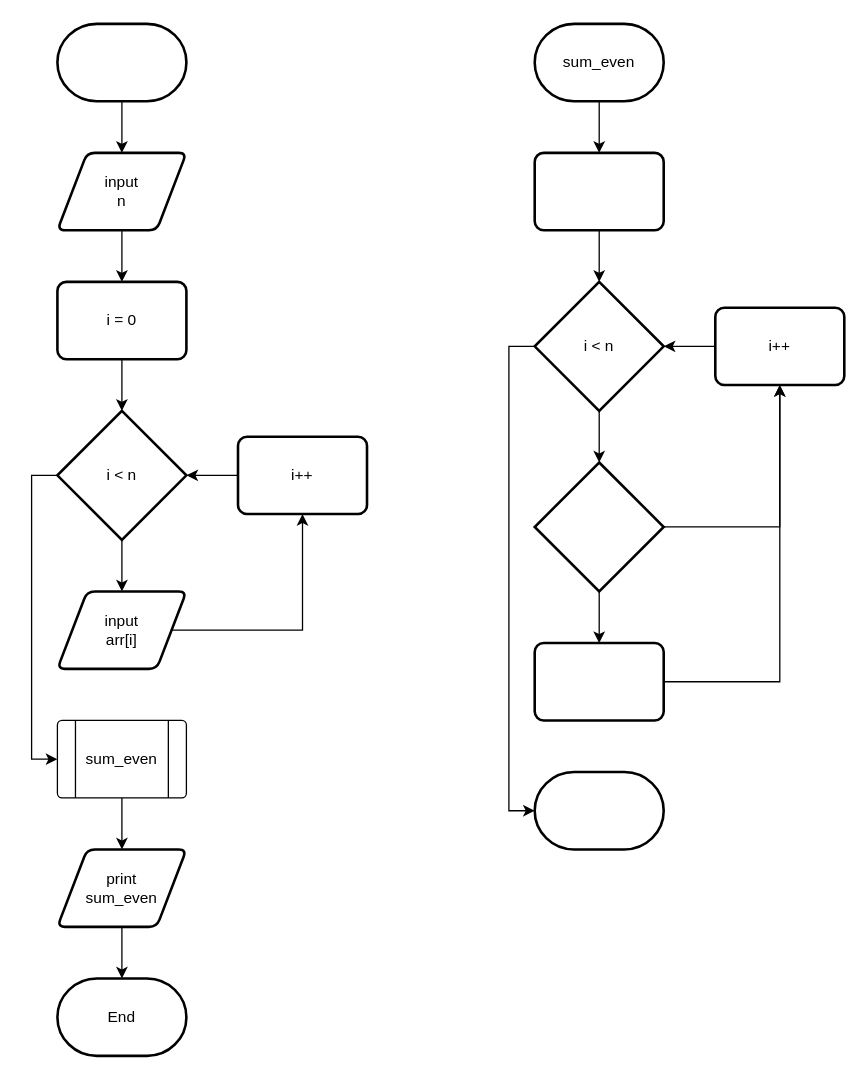
The diagram is 868 pixels wide and 1078 high, and some of its shapes have lost their labels. The shapes that lost their labels are listed below. From the top down, each one's box as (x1, y1, x2, y2) in pixels, then its label:
(55, 22, 187, 102): Start
(533, 151, 664, 231): sum = 0 i = 0
(533, 461, 664, 592): arr[i]%2 == 0
(533, 641, 664, 721): sum += arr[i]
(533, 770, 664, 850): return sum
